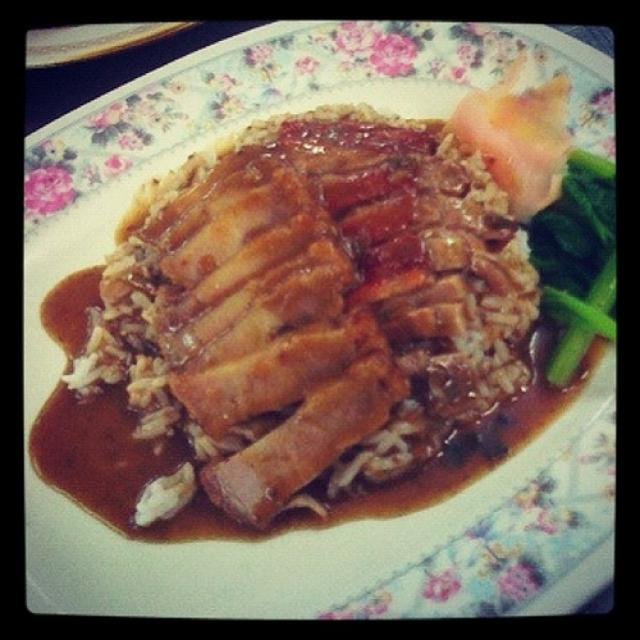烧串烤肉: (51, 58, 584, 576)
